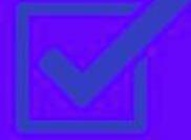CheckBox: (1, 1, 190, 139)
